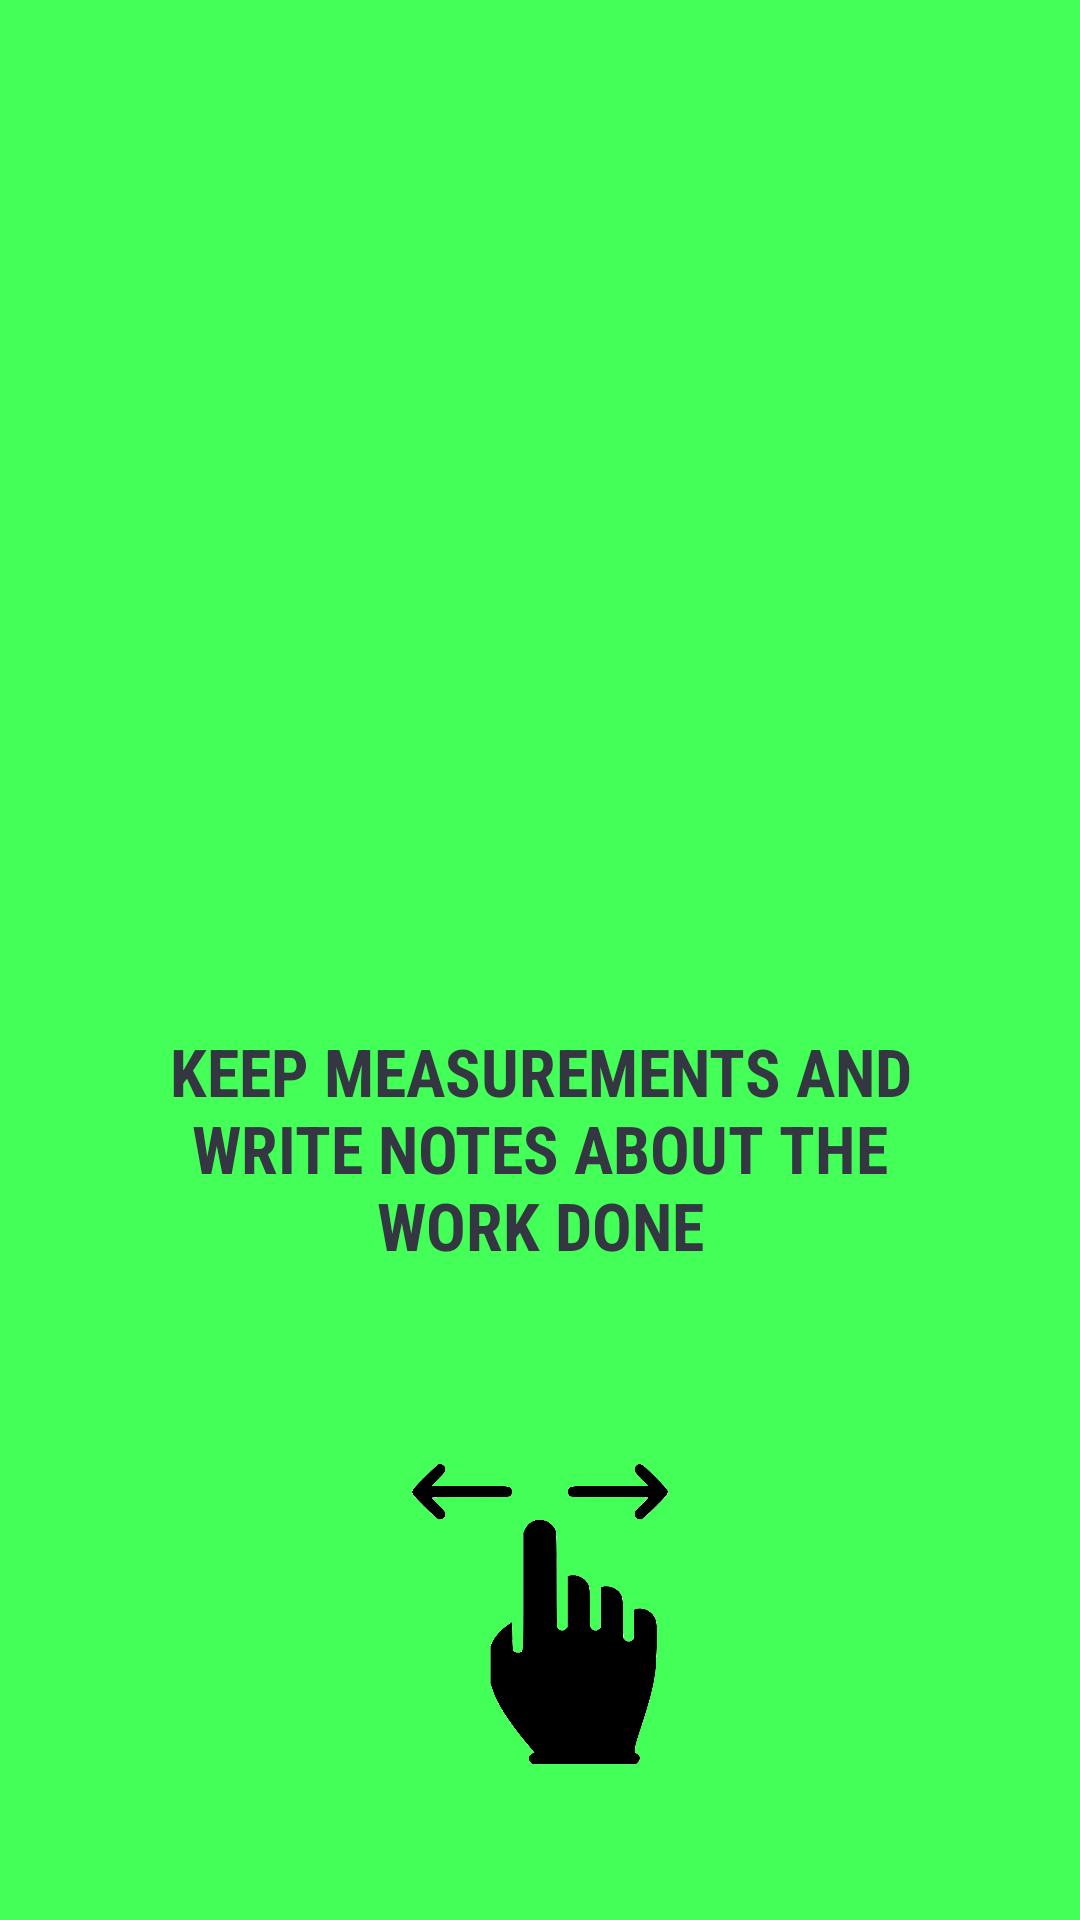

Icon bounding boxes for this 1080×1920 phone screenshot, format (x1, y1, x2, y2):
swipe sprite: (412, 1464, 668, 1764)
